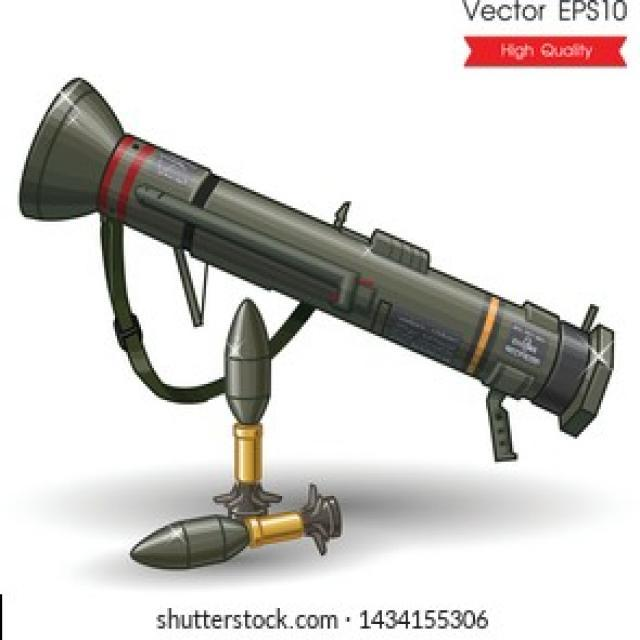rocket launcher: (10, 72, 623, 566)
